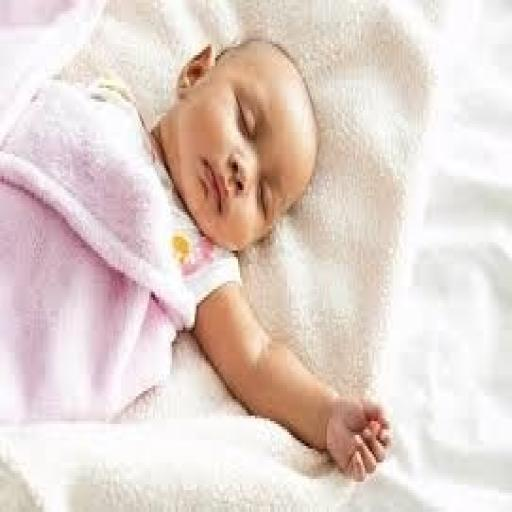sleeping: (0, 11, 397, 484)
